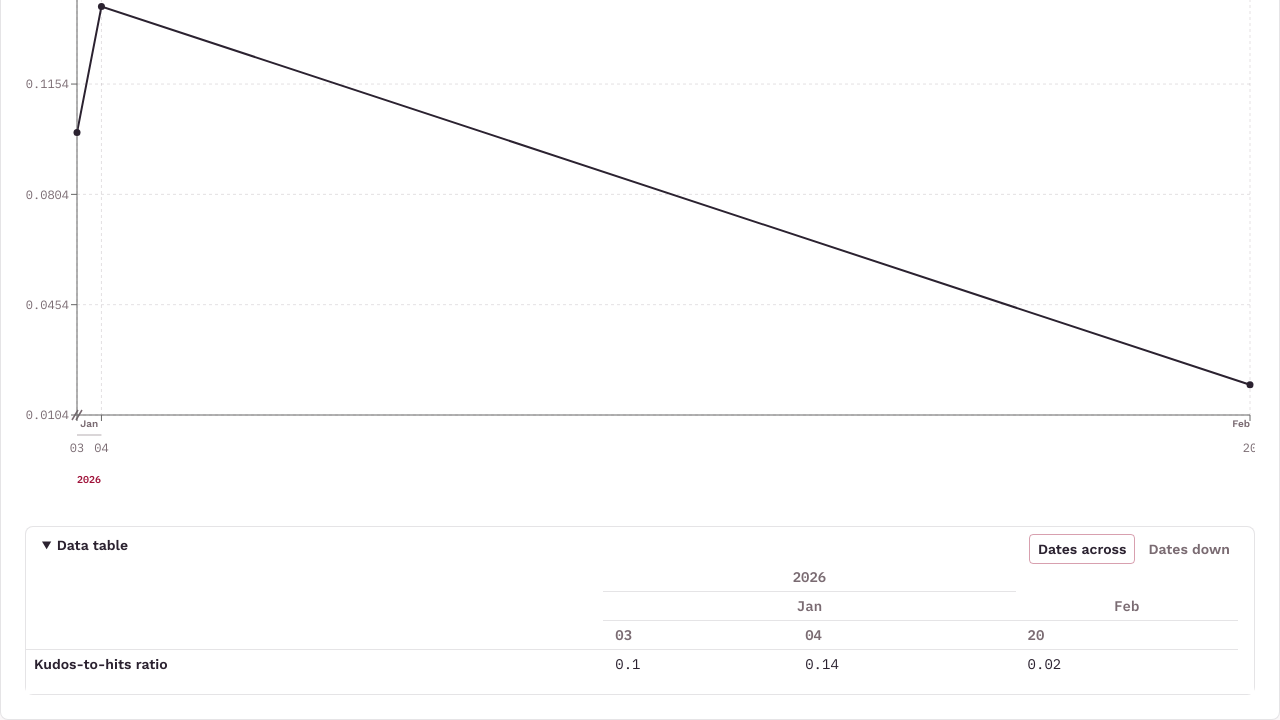
Test: RatioChart: pin via table header (§3 item 3, D5) › shows a PinnedComparisonBar naming the pinned date once its table header's pin control is activated
The image size is (1280, 720).
(page scrolled)
Click the button "04": x=814, y=635 [805,625,822,645]
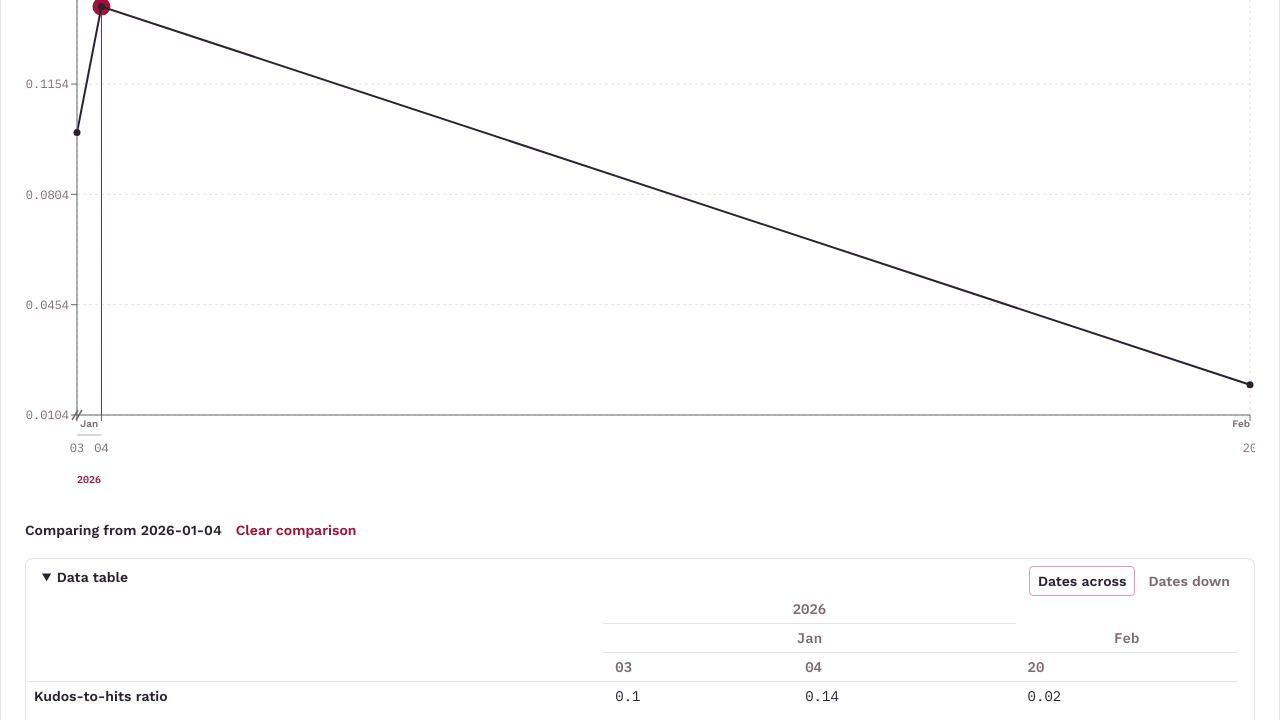
Expected: the text "Comparing from 2026-01-04" is shown, [25,520,222,540]
